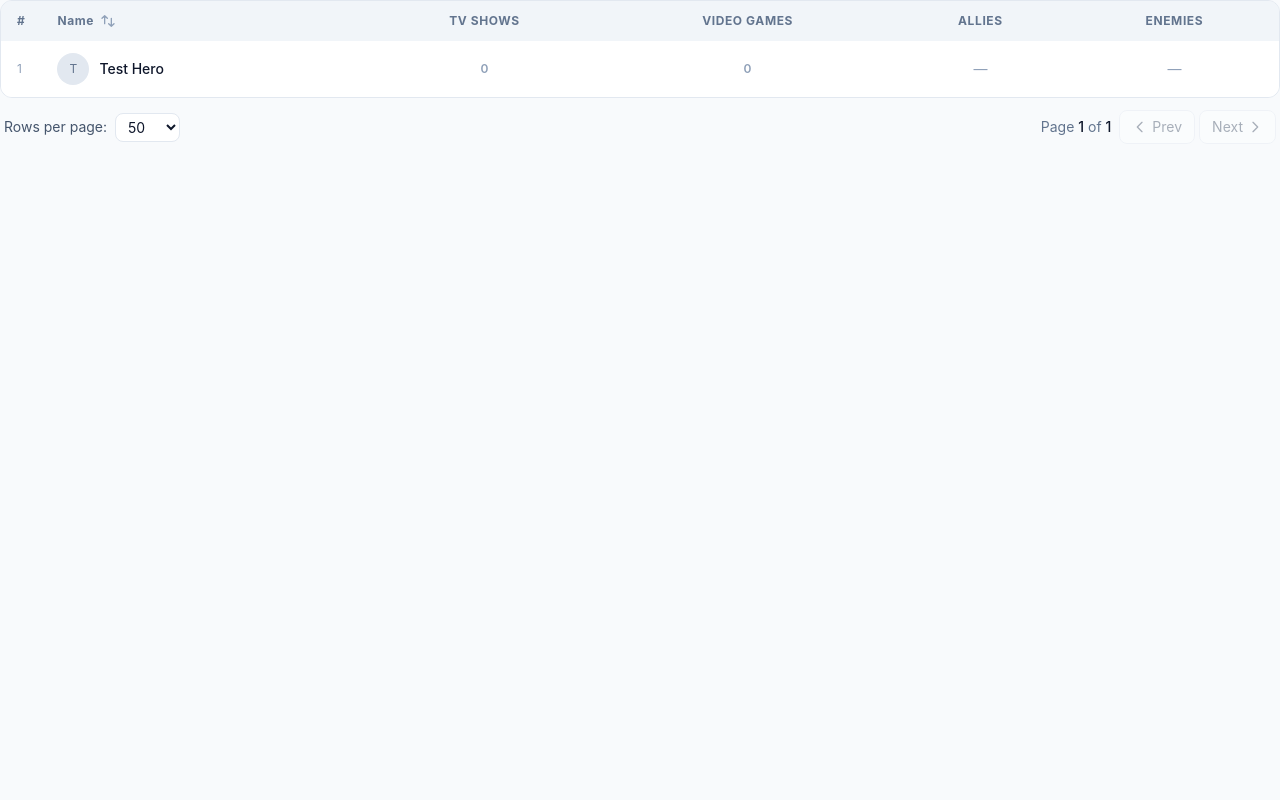
Test case: CharacterTable › opens the character modal when a table row is clicked
Click the text "Test Hero".
click(132, 69)  # box top-left (99, 59), bottom-right (164, 79)
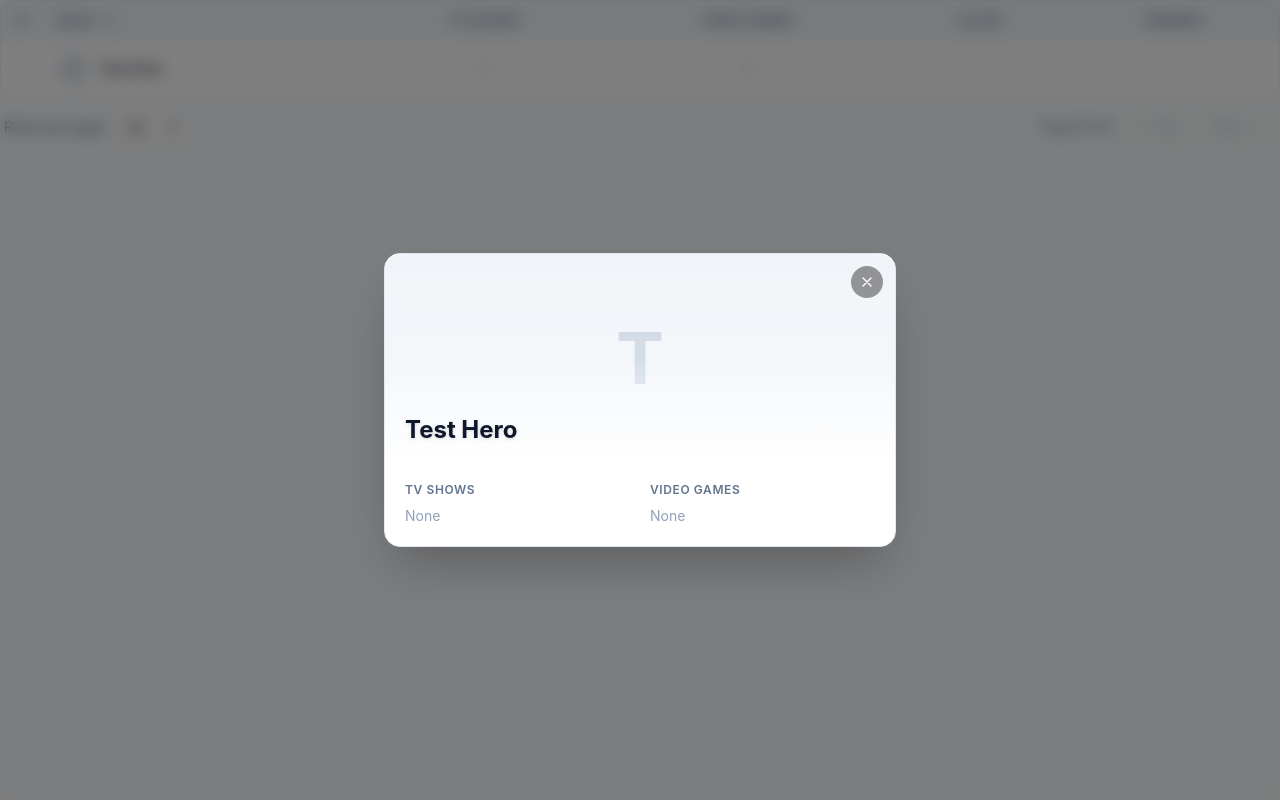
Expected: the heading "Test Hero" is shown, top-left (405, 414), bottom-right (518, 446)
